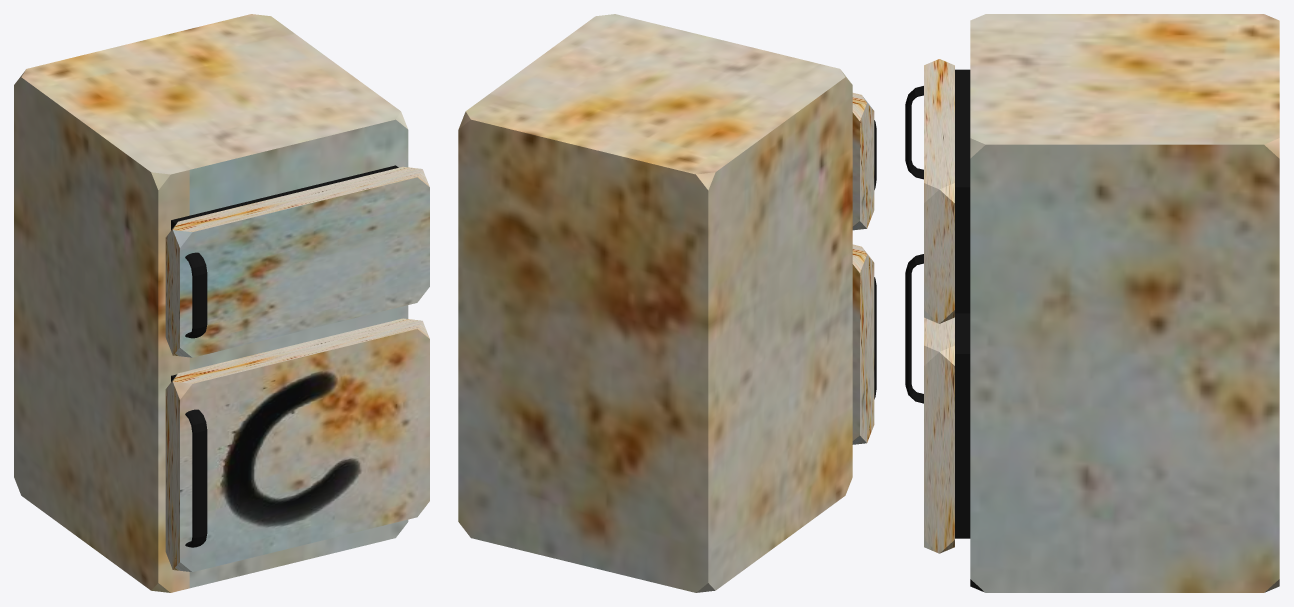
File: cumi.gltf
3 renders of one model, left to right at view 1: azimuth 30°, elevation 25°; view 2: azimuth 150°, elevation 25°; view 3: azimuth 270°, elevation 25°, orthographic. The views are drawn at different scales.
Visible parts, largest first — view 1: Cube, Cube.002, Cube.001; view 2: Cube, Cube.002, Cube.001; view 3: Cube, Cube.001, Cube.002.
Part boxes in pixels (x1,y1,x2,y2): Cube: (14,14,408,592); Cube.002: (165,318,429,572); Cube.001: (165,165,429,357); Cube: (458,14,852,592); Cube.002: (852,244,876,444); Cube.001: (852,93,876,230); Cube: (970,14,1279,592); Cube.001: (905,59,970,323); Cube.002: (905,254,970,553).
Size of the model in its own units: 2 by 3.2 by 2.42.
1 material, 1 textured.
